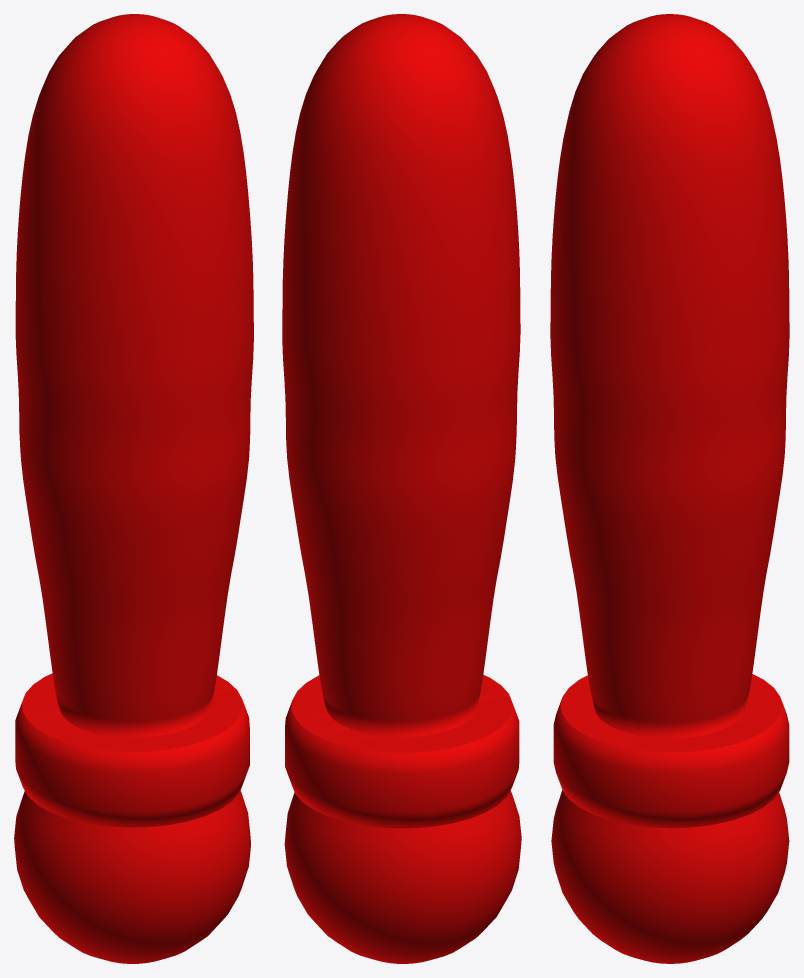
Rendered from ArmLower.dae.
3 views of the same model, side by side, from view 1: azimuth 30°, elevation 25°; view 2: azimuth 150°, elevation 25°; view 3: azimuth 270°, elevation 25° (orthographic).
Visible parts, largest first — view 1: HandSpherical; view 2: HandSpherical; view 3: HandSpherical.
Boxes of the visible parts, <box> form: HandSpherical: <box>14,14,253,963</box>; HandSpherical: <box>282,14,521,963</box>; HandSpherical: <box>550,14,789,963</box>.
Size of the model in its own units: 0.0884 by 0.0878 by 0.377.
